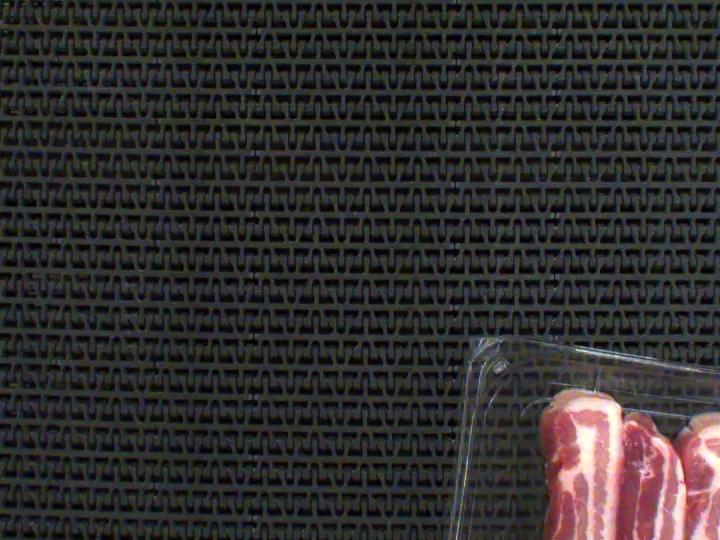packaging-error: (583, 358, 607, 397)
